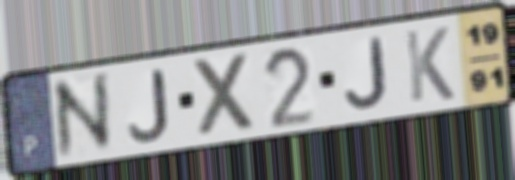2: (261, 44, 317, 131)
J: (342, 35, 391, 111), (125, 66, 172, 144)
K: (402, 24, 457, 105)
N: (48, 69, 118, 163)
X: (190, 49, 260, 141)
